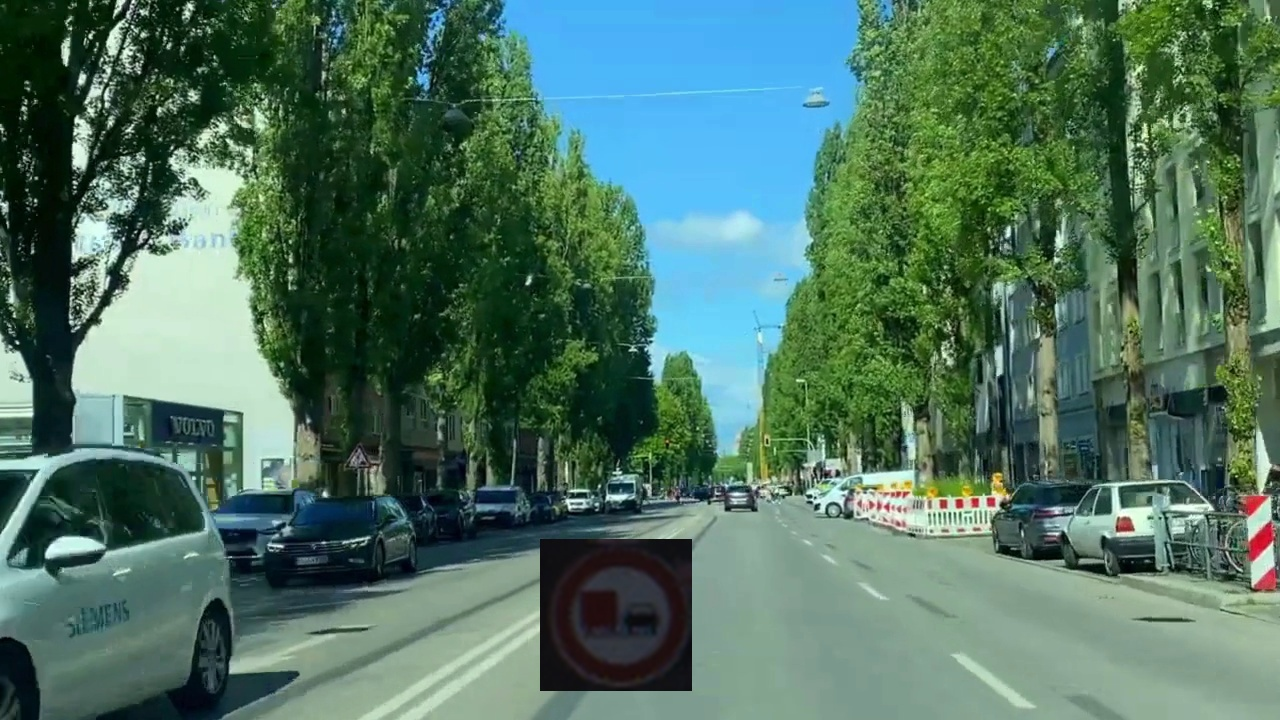No pass >3.5t: (540, 539, 692, 691)
